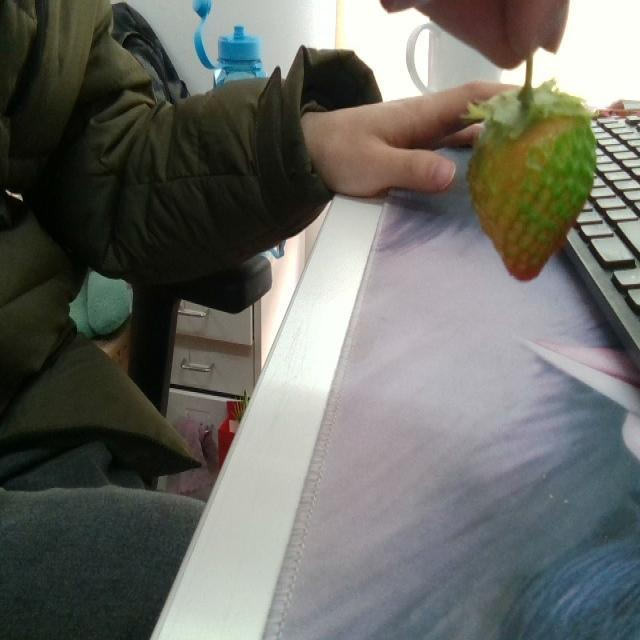unripe: (466, 96, 598, 280)
